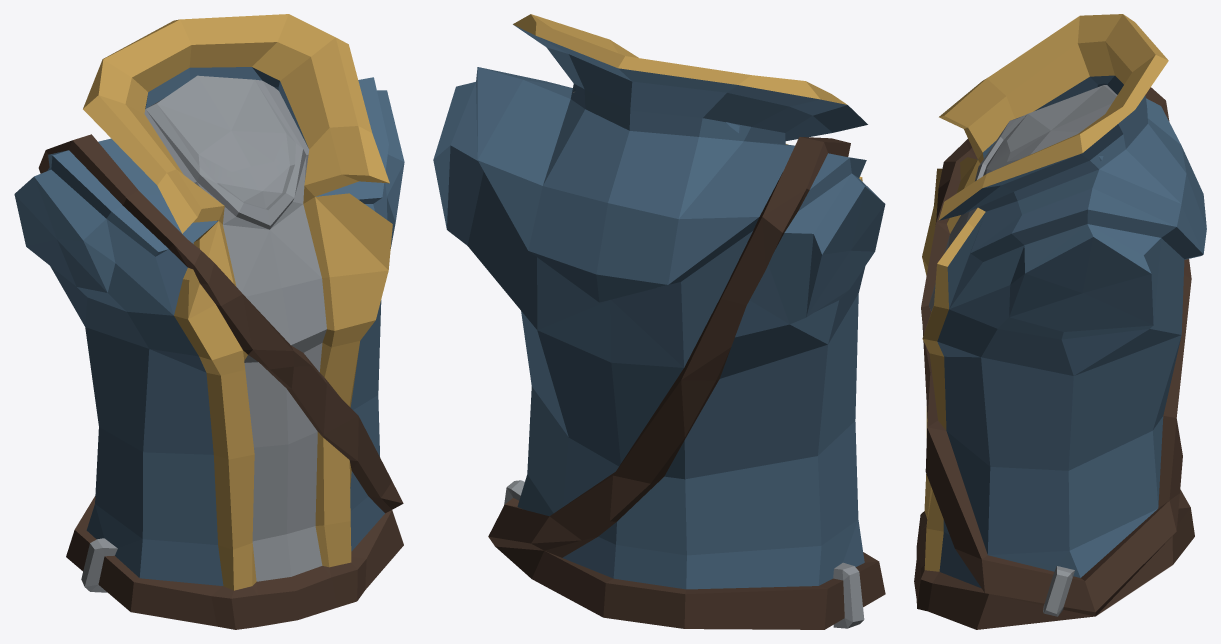
The model's file is Chr_Torso_Male_27_Static.fbx.
3 renders of one model, left to right at view 1: azimuth 30°, elevation 25°; view 2: azimuth 150°, elevation 25°; view 3: azimuth 270°, elevation 25°, orthographic. The views are drawn at different scales.
Visible parts, largest first — view 1: Chr_Torso_Male_27_Static; view 2: Chr_Torso_Male_27_Static; view 3: Chr_Torso_Male_27_Static.
Part boxes in pixels (x1,y1,x2,y2): Chr_Torso_Male_27_Static: (14,14,404,629); Chr_Torso_Male_27_Static: (433,14,885,629); Chr_Torso_Male_27_Static: (914,14,1206,629).
Bounding box in the file's own units: 0.502 × 0.7043 × 0.352.
